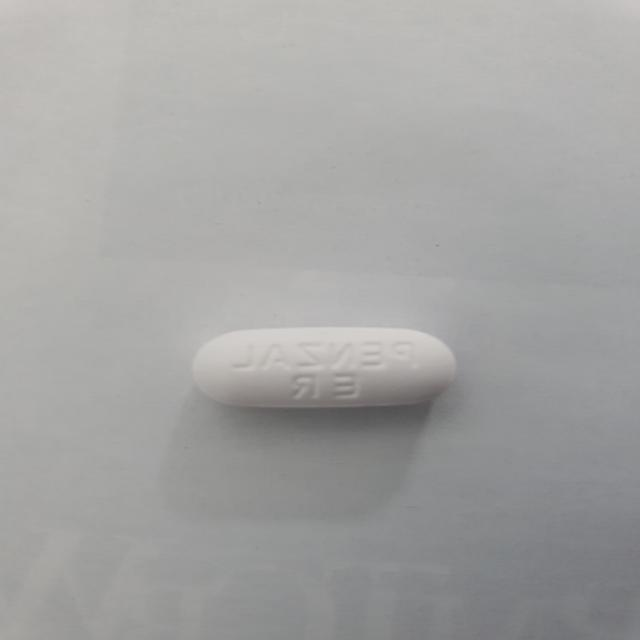pill: (186, 316, 458, 422)
